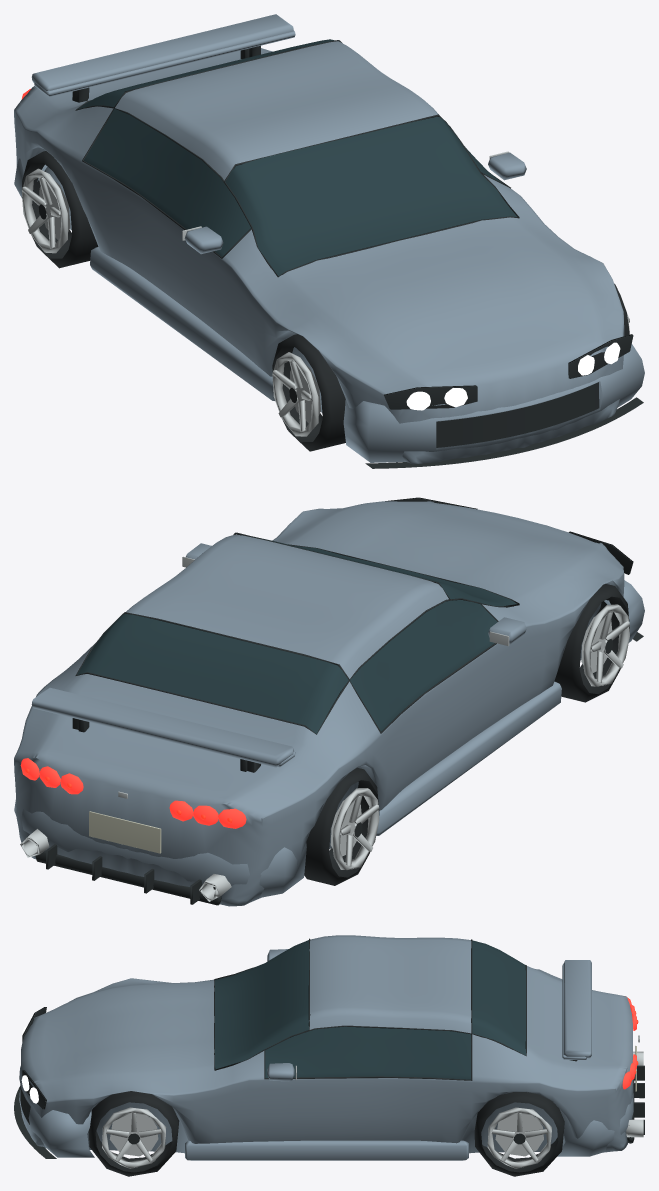
File: ystren-ilyra.glb
3 views of the same model, one above another, from view 1: azimuth 30°, elevation 25°; view 2: azimuth 150°, elevation 25°; view 3: azimuth 270°, elevation 25° (orthographic). The views are drawn at different scales.
Visible parts, largest first — view 1: cofano, scocca, cristallo_ant, tetto, porta_sx, cristallo_sx, paraurti_ant, spoiler, minigonna_sx, griglia, ruota_ant_sx_gomma, ruota_post_sx_gomma (+15 smaller); view 2: scocca, tetto, portellone, cofano, cristallo_post, porta_sx, cristallo_sx, spoiler, paraurti_post, minigonna_sx, ruota_post_sx_gomma, ruota_ant_sx_gomma (+12 smaller); view 3: scocca, cofano, tetto, porta_dx, cristallo_dx, cristallo_ant, portellone, minigonna_dx, cristallo_post, spoiler, ruota_ant_dx_gomma, ruota_post_dx_gomma (+13 smaller).
Boxes of the visible parts, x1=… form: cofano: x1=278, y1=217, x2=604, y2=378; scocca: x1=14, y1=48, x2=624, y2=464; cristallo_ant: x1=225, y1=116, x2=517, y2=276; tetto: x1=115, y1=41, x2=438, y2=180; porta_sx: x1=82, y1=162, x2=237, y2=348; cristallo_sx: x1=83, y1=108, x2=250, y2=256; paraurti_ant: x1=343, y1=344, x2=644, y2=462; spoiler: x1=31, y1=14, x2=293, y2=90; minigonna_sx: x1=90, y1=246, x2=274, y2=400; griglia: x1=436, y1=382, x2=599, y2=447; ruota_ant_sx_gomma: x1=272, y1=334, x2=345, y2=451; ruota_post_sx_gomma: x1=22, y1=151, x2=98, y2=268; scocca: x1=14, y1=501, x2=624, y2=906; tetto: x1=125, y1=534, x2=448, y2=678; portellone: x1=30, y1=674, x2=316, y2=807; cofano: x1=284, y1=501, x2=604, y2=604; cristallo_post: x1=77, y1=613, x2=348, y2=733; porta_sx: x1=377, y1=637, x2=521, y2=810; cristallo_sx: x1=350, y1=600, x2=497, y2=731; spoiler: x1=31, y1=687, x2=293, y2=767; paraurti_post: x1=14, y1=799, x2=306, y2=897; minigonna_sx: x1=376, y1=681, x2=561, y2=835; ruota_post_sx_gomma: x1=304, y1=767, x2=379, y2=885; ruota_ant_sx_gomma: x1=554, y1=583, x2=629, y2=702; scocca: x1=21, y1=969, x2=632, y2=1153; cofano: x1=43, y1=980, x2=214, y2=1085; tetto: x1=309, y1=935, x2=471, y2=1033; porta_dx: x1=249, y1=1078, x2=471, y2=1153; cristallo_dx: x1=265, y1=1026, x2=470, y2=1079; cristallo_ant: x1=215, y1=940, x2=309, y2=1069; portellone: x1=526, y1=966, x2=632, y2=1073; minigonna_dx: x1=185, y1=1140, x2=468, y2=1160; cristallo_post: x1=472, y1=940, x2=525, y2=1055; spoiler: x1=563, y1=960, x2=591, y2=1058; ruota_ant_dx_gomma: x1=88, y1=1091, x2=179, y2=1176; ruota_post_dx_gomma: x1=474, y1=1092, x2=564, y2=1176.
Size of the model in its own units: 2.17 by 1.23 by 4.71.
